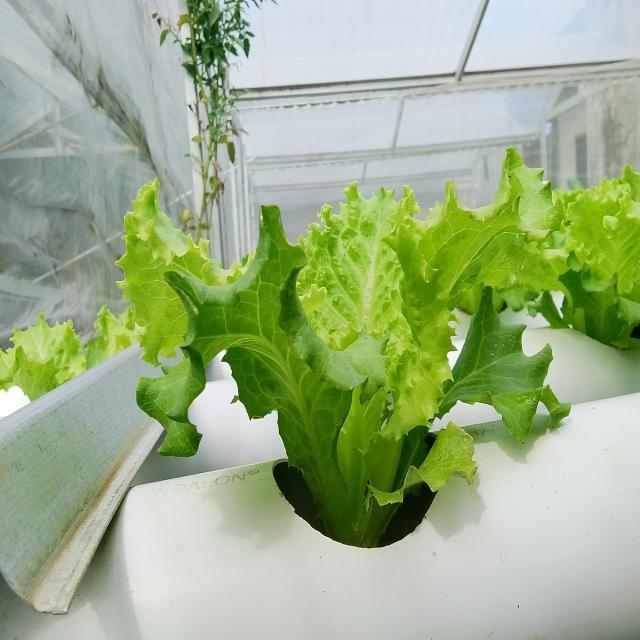Baby: (137, 148, 570, 547)
